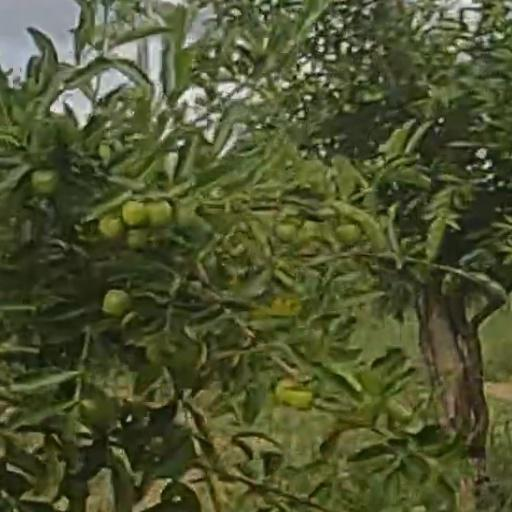acerola_verde: (102, 291, 130, 314), (30, 172, 57, 192), (99, 214, 120, 239), (122, 199, 144, 222), (147, 202, 169, 225)
